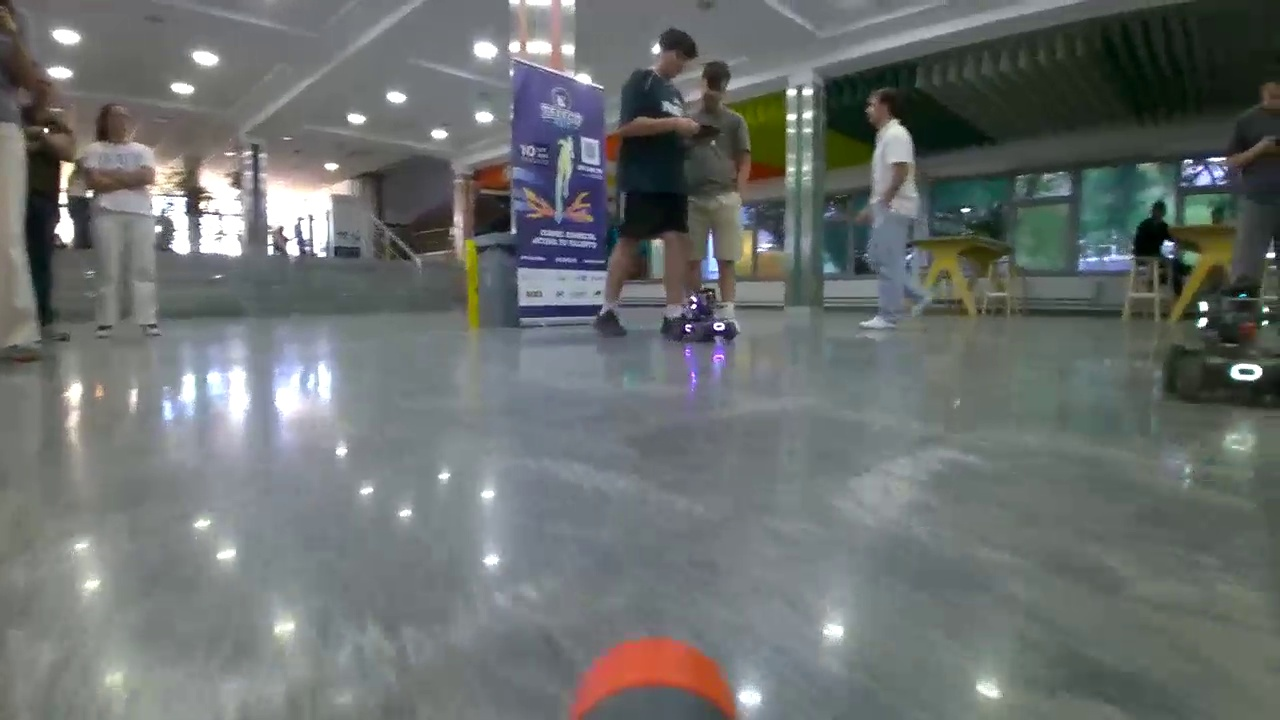robot: (1167, 288, 1280, 402), (678, 290, 738, 340)
